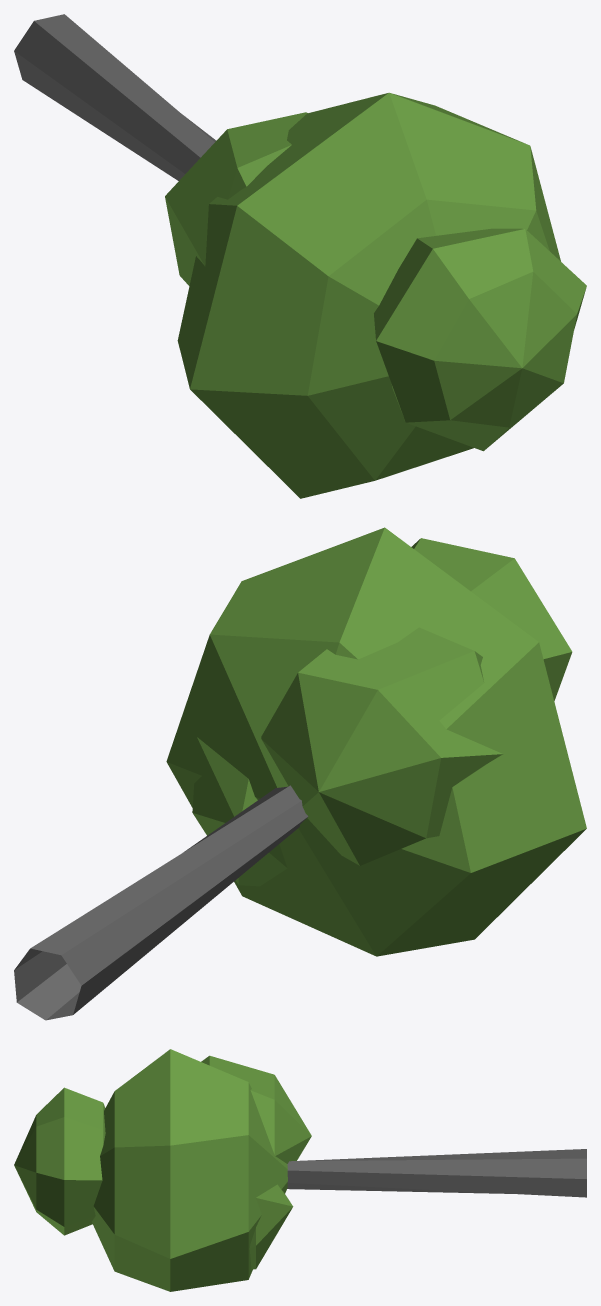
Rendered from grown.glb.
The picture shows the model from 3 angles, top to bottom: view 1: azimuth 30°, elevation 25°; view 2: azimuth 150°, elevation 25°; view 3: azimuth 270°, elevation 25°; orthographic projection. The views are drawn at different scales.
Visible parts, largest first — view 1: tree_04_grown; view 2: tree_04_grown; view 3: tree_04_grown.
Part boxes in pixels (bbox=[...]): tree_04_grown: bbox=[14, 14, 586, 498]; tree_04_grown: bbox=[14, 527, 586, 1020]; tree_04_grown: bbox=[14, 1049, 586, 1291].
Size of the model in its own units: 16.19 by 15.61 by 34.12.
